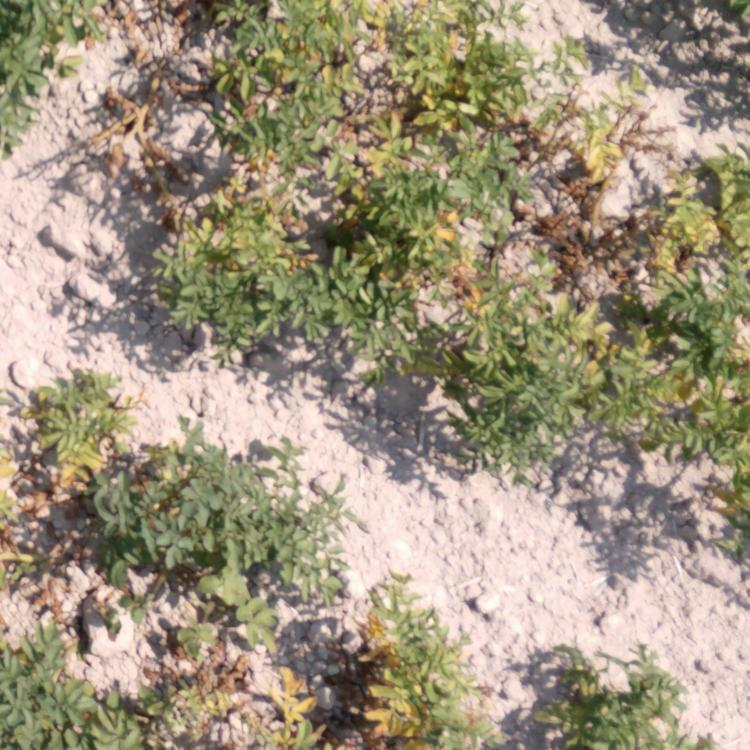healthy: (139, 439, 343, 615), (514, 639, 709, 750), (6, 628, 144, 750), (1, 1, 98, 152)
stressed: (292, 1, 519, 254), (148, 140, 293, 348), (360, 579, 513, 750), (409, 269, 565, 434), (153, 615, 327, 747), (543, 53, 637, 261), (649, 138, 750, 318), (130, 1, 278, 122), (3, 361, 135, 483), (586, 324, 688, 441), (308, 256, 389, 370), (703, 327, 750, 519), (1, 498, 94, 592)
